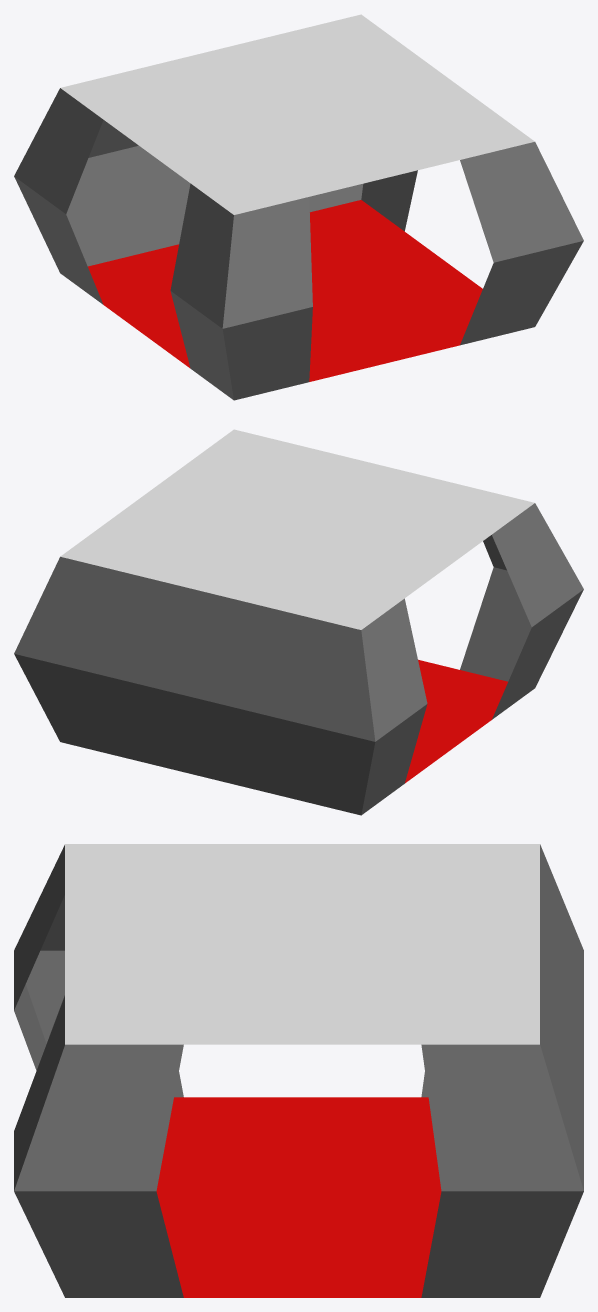
File: tech-center.fbx
The picture shows the model from 3 angles, top to bottom: view 1: azimuth 30°, elevation 25°; view 2: azimuth 150°, elevation 25°; view 3: azimuth 270°, elevation 25°; orthographic projection. The views are drawn at different scales.
Visible parts, largest first — view 1: Technological Center; view 2: Technological Center; view 3: Technological Center.
Boxes of the visible parts, box(x1,y1,x2,y2) form: Technological Center: box(14, 14, 583, 400); Technological Center: box(14, 429, 583, 815); Technological Center: box(14, 844, 583, 1297).
Bounding box in the file's own units: 869 × 426 × 869.
